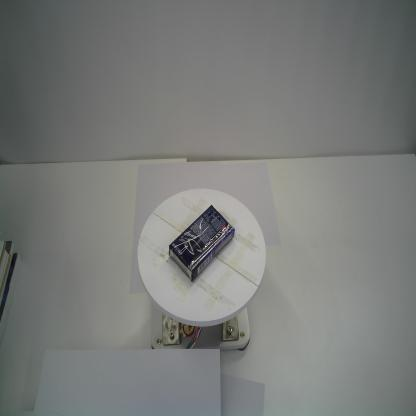Gum: (166, 204, 236, 284)
